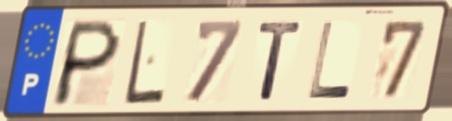7: (186, 16, 246, 106), (380, 17, 426, 101)
L: (122, 17, 168, 107), (306, 19, 355, 102)
P: (47, 16, 125, 109)
T: (255, 19, 306, 103)
